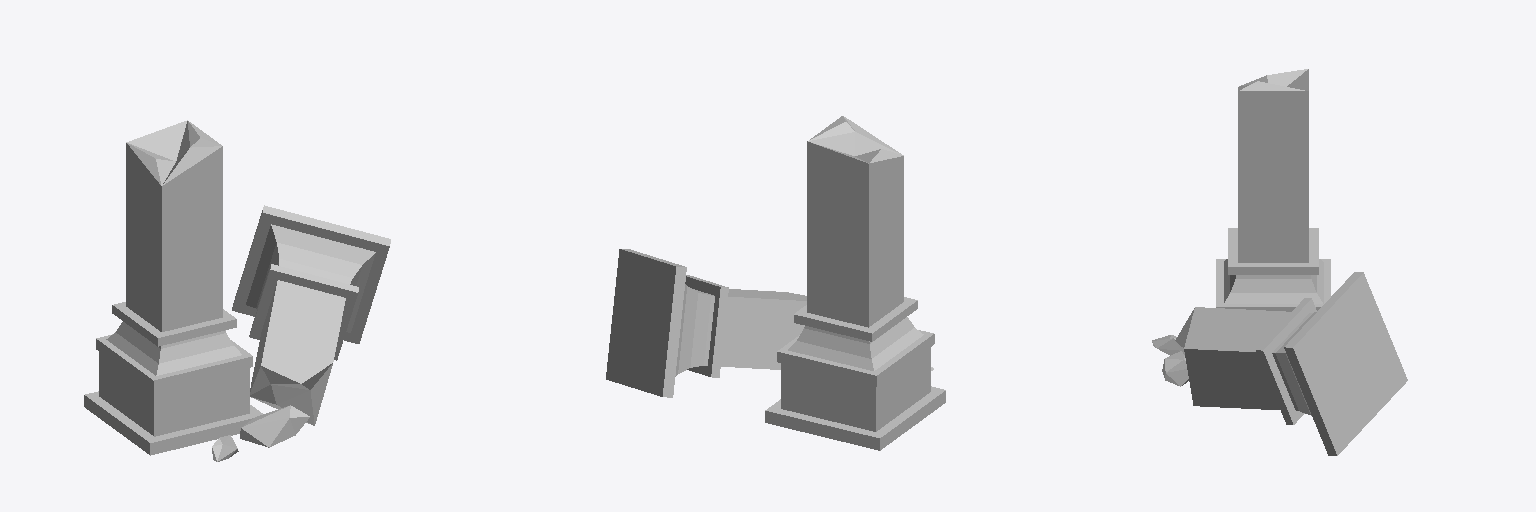
The model's file is Column 1.2.obj.
3 views of the same model, side by side, from view 1: azimuth 30°, elevation 25°; view 2: azimuth 150°, elevation 25°; view 3: azimuth 270°, elevation 25° (orthographic).
Bounding box in the file's own units: 2.03 × 1.95 × 1.59.